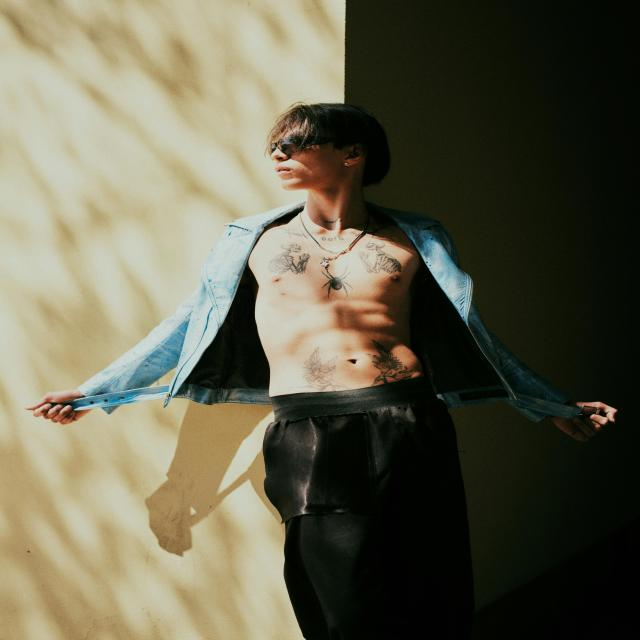stand: (215, 78, 494, 634)
